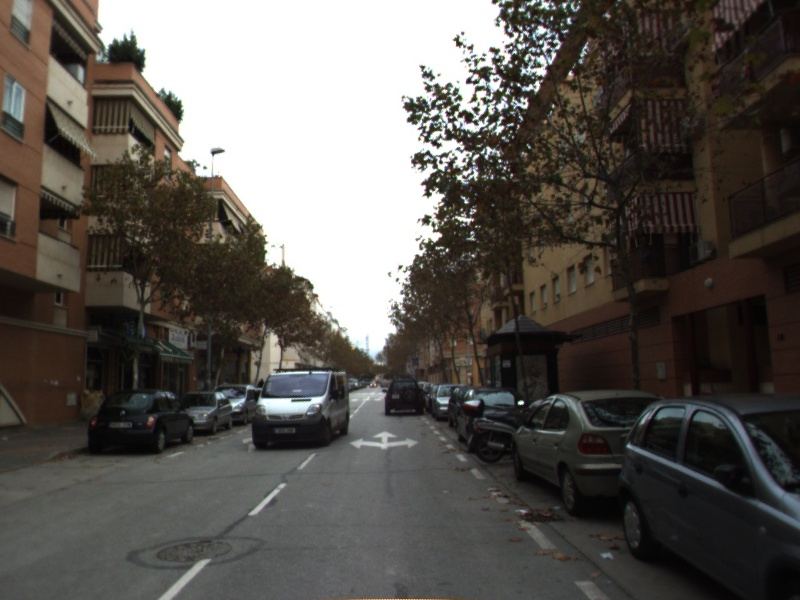STRAIGHT_LEFT_RIGHT: (348, 429, 421, 452)
